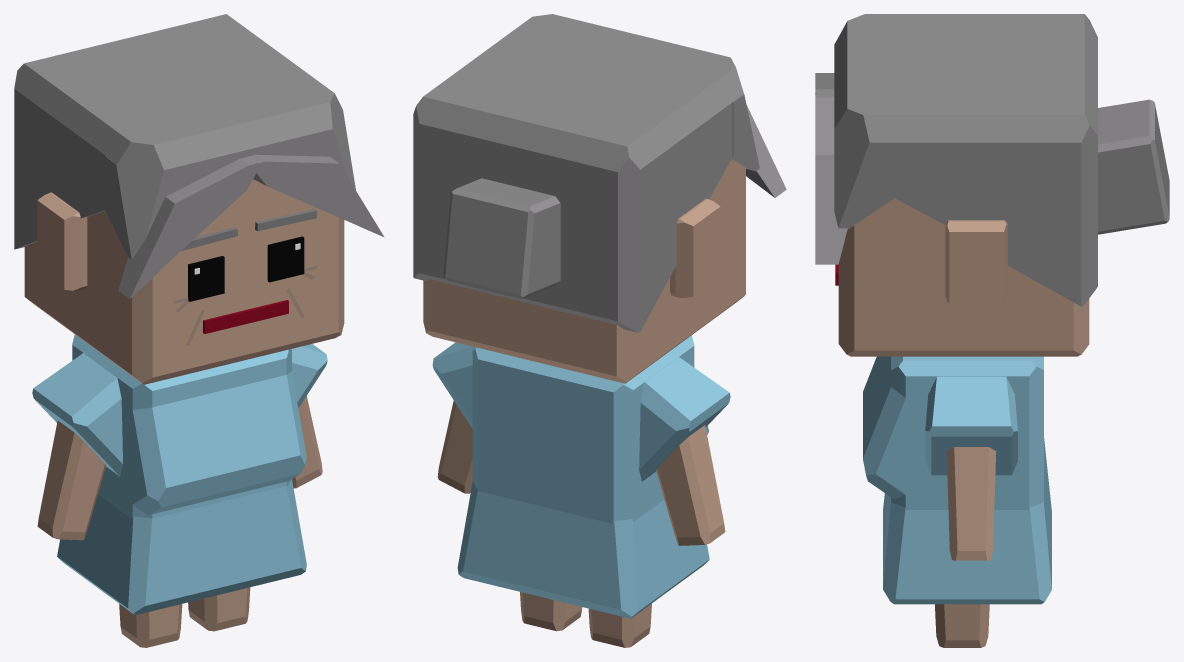
File: Player.fbx
The picture shows the model from 3 angles, left to right: view 1: azimuth 30°, elevation 25°; view 2: azimuth 150°, elevation 25°; view 3: azimuth 270°, elevation 25°; orthographic projection. The views are drawn at different scales.
Parts seen in each view (by area): view 1: node_id38, node_id84, node_id30, node_id110, node_id45, node_id94, node_id102, node_id118, node_id55, node_id59; view 2: node_id38, node_id84, node_id30, node_id110, node_id118, node_id94, node_id102; view 3: node_id38, node_id84, node_id30, node_id118, node_id102.
Part boxes in pixels (bbox=[...]): node_id38: bbox=[14, 14, 383, 298]; node_id84: bbox=[32, 334, 327, 615]; node_id30: bbox=[24, 179, 344, 384]; node_id110: bbox=[37, 420, 105, 540]; node_id45: bbox=[188, 236, 304, 301]; node_id94: bbox=[119, 604, 182, 647]; node_id102: bbox=[188, 587, 250, 631]; node_id118: bbox=[292, 396, 322, 488]; node_id55: bbox=[203, 300, 288, 333]; node_id59: bbox=[181, 209, 317, 251]; node_id38: bbox=[413, 14, 786, 332]; node_id84: bbox=[432, 335, 730, 618]; node_id30: bbox=[423, 159, 745, 383]; node_id110: bbox=[656, 425, 725, 545]; node_id118: bbox=[437, 400, 472, 493]; node_id94: bbox=[588, 603, 651, 647]; node_id102: bbox=[520, 592, 582, 631]; node_id38: bbox=[815, 14, 1169, 306]; node_id84: bbox=[863, 356, 1051, 604]; node_id30: bbox=[838, 198, 1089, 356]; node_id118: bbox=[946, 447, 996, 560]; node_id102: bbox=[935, 604, 989, 647].
Size of the model in its own units: 0.5418 by 1.05 by 0.6037.
Materials: 13 (12 with a texture image).
